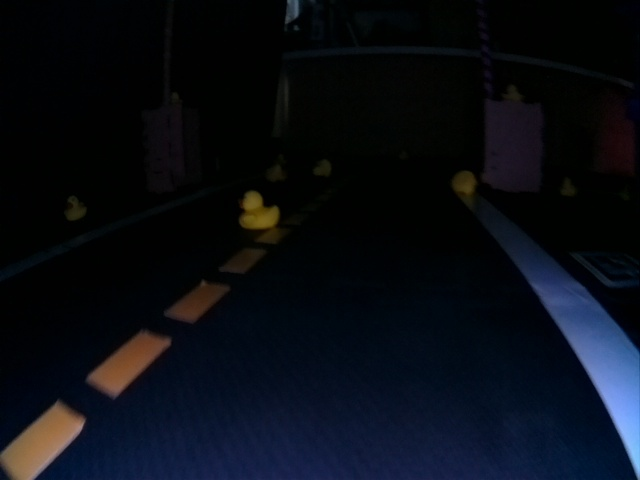Duckie: (240, 192, 278, 230), (453, 170, 477, 195), (65, 195, 85, 219), (504, 85, 520, 100), (267, 164, 282, 179), (560, 178, 573, 195)
QR code: (576, 250, 635, 288)
